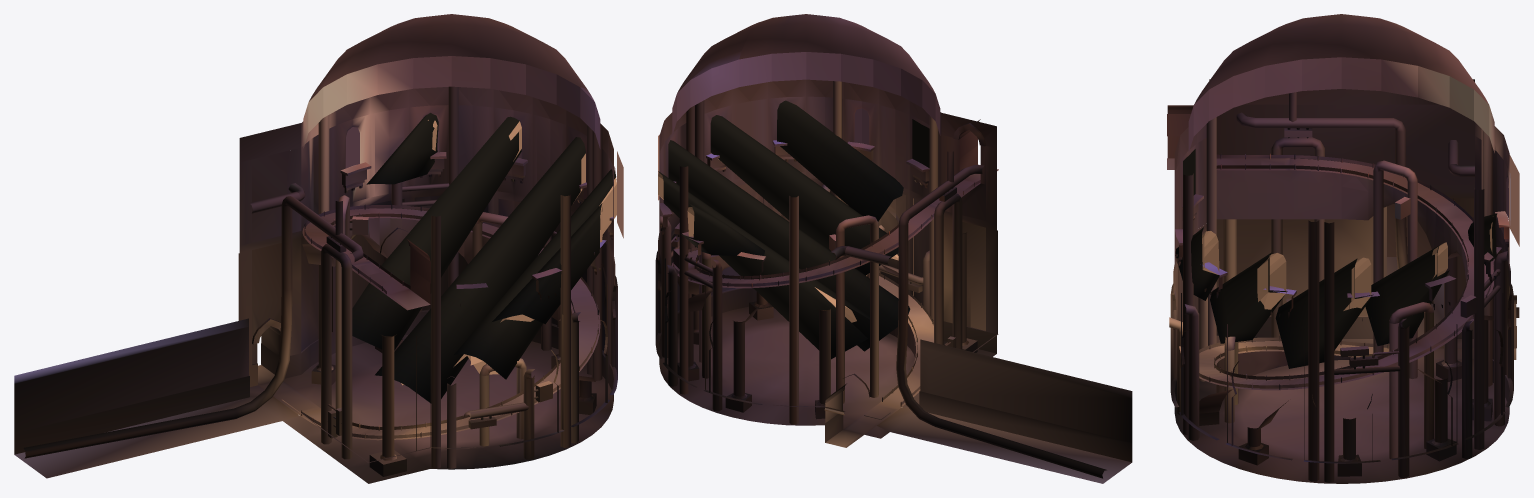
File: 10Spiral.gltf
The picture shows the model from 3 angles, left to right: view 1: azimuth 30°, elevation 25°; view 2: azimuth 150°, elevation 25°; view 3: azimuth 270°, elevation 25°; orthographic projection. The views are drawn at different scales.
Visible parts, largest first — view 1: stg031_g36_Mesh_0000, stg031_o36_Mesh_0025, stg031_o36_Mesh_0001, stg031_o36_Mesh_0032, stg031_o36_Mesh_0011, stg031_o36_Mesh_0035, stg031_o36_Mesh_0015, stg031_o36_Mesh_0007, stg031_o36_Mesh_0006, stg031_o36_Mesh_0021, stg031_o36_Mesh_0040, stg031_o36_Mesh_0005 (+15 smaller); view 2: stg031_g36_Mesh_0000, stg031_o36_Mesh_0025, stg031_o36_Mesh_0001, stg031_o36_Mesh_0032, stg031_o36_Mesh_0035, stg031_o36_Mesh_0011, stg031_o36_Mesh_0015, stg031_o36_Mesh_0007, stg031_o36_Mesh_0006, stg031_o36_Mesh_0021, stg031_o36_Mesh_0004, stg031_o36_Mesh_0005 (+16 smaller); view 3: stg031_o36_Mesh_0025, stg031_o36_Mesh_0001, stg031_g36_Mesh_0000, stg031_o36_Mesh_0011, stg031_o36_Mesh_0015, stg031_o36_Mesh_0005, stg031_o36_Mesh_0007, stg031_o36_Mesh_0040, stg031_o36_Mesh_0004, stg031_p36_Mesh_0001, stg031_o36_Mesh_0024, stg031_o36_Mesh_0035 (+18 smaller).
Part boxes in pixels (x1,y1,x2,y2): stg031_g36_Mesh_0000: (352, 113, 616, 403); stg031_o36_Mesh_0025: (23, 86, 602, 468); stg031_o36_Mesh_0001: (239, 87, 617, 483); stg031_o36_Mesh_0032: (14, 329, 239, 432); stg031_o36_Mesh_0011: (252, 56, 600, 344); stg031_o36_Mesh_0035: (14, 247, 548, 478); stg031_o36_Mesh_0015: (309, 14, 594, 101); stg031_o36_Mesh_0007: (252, 108, 617, 377); stg031_o36_Mesh_0006: (14, 268, 613, 454); stg031_o36_Mesh_0021: (239, 113, 609, 448); stg031_o36_Mesh_0040: (302, 208, 600, 440); stg031_o36_Mesh_0005: (301, 334, 613, 457); stg031_g36_Mesh_0000: (658, 100, 929, 359); stg031_o36_Mesh_0025: (660, 81, 1106, 478); stg031_o36_Mesh_0001: (658, 79, 998, 416); stg031_o36_Mesh_0032: (929, 349, 1132, 442); stg031_o36_Mesh_0035: (722, 174, 1131, 483); stg031_o36_Mesh_0011: (672, 52, 985, 397); stg031_o36_Mesh_0015: (677, 14, 935, 93); stg031_o36_Mesh_0007: (655, 97, 985, 342); stg031_o36_Mesh_0006: (659, 145, 1132, 462); stg031_o36_Mesh_0021: (663, 98, 996, 408); stg031_o36_Mesh_0004: (745, 337, 869, 390); stg031_o36_Mesh_0005: (659, 306, 915, 425); stg031_o36_Mesh_0025: (1169, 92, 1507, 482); stg031_o36_Mesh_0001: (1170, 79, 1509, 431); stg031_g36_Mesh_0000: (1175, 149, 1497, 368); stg031_o36_Mesh_0011: (1188, 57, 1494, 152); stg031_o36_Mesh_0015: (1194, 14, 1488, 104); stg031_o36_Mesh_0005: (1180, 370, 1509, 483); stg031_o36_Mesh_0007: (1170, 105, 1513, 390); stg031_o36_Mesh_0040: (1199, 159, 1493, 390); stg031_o36_Mesh_0004: (1270, 382, 1413, 443); stg031_p36_Mesh_0001: (1199, 154, 1493, 388); stg031_o36_Mesh_0024: (1223, 219, 1488, 460); stg031_o36_Mesh_0035: (1167, 159, 1516, 455).
Bounding box in the file's own units: 90.53 × 59.95 × 51.3.
